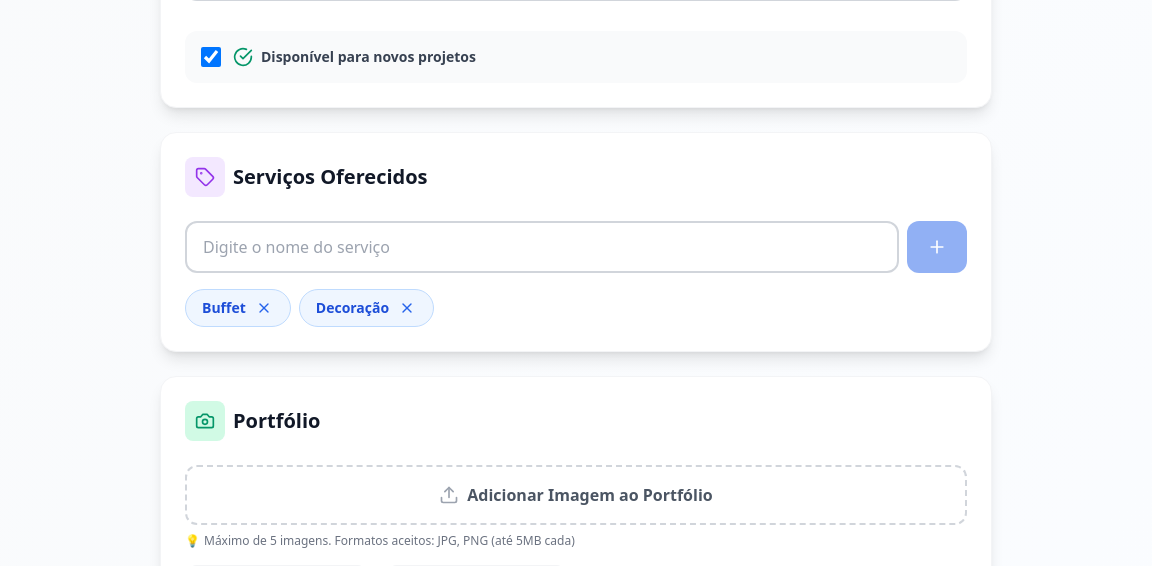
Scenario: SupplierProfileEdit › should add new service
This screenshot has width=1152, height=566.
(page scrolled)
Type "Fotografia" into the field with placeholder "Digite o nome do serviço" at (542, 247), box [185, 221, 899, 273]
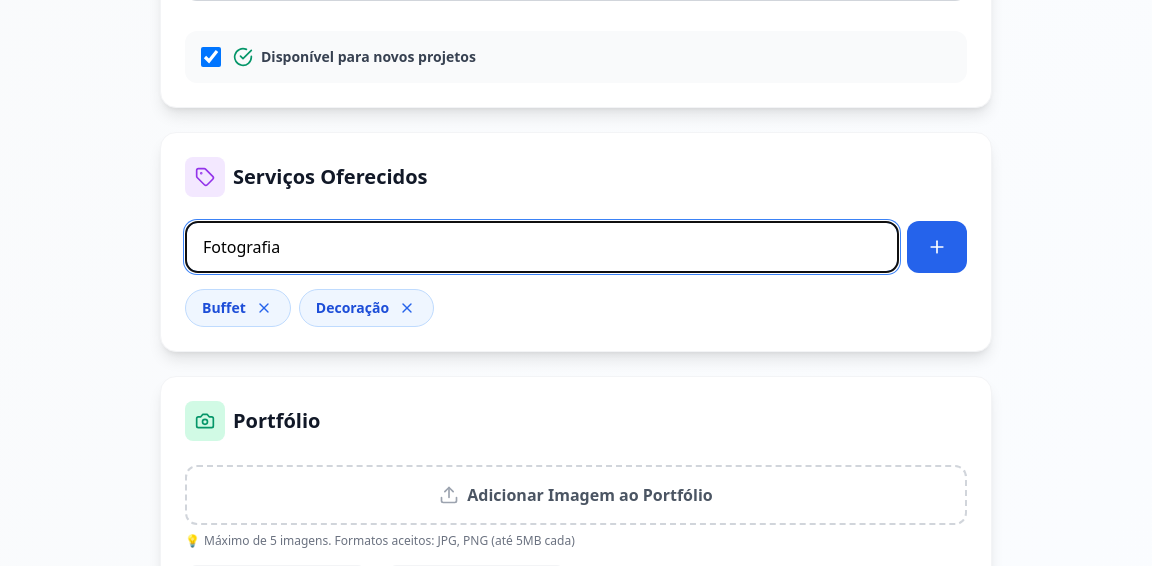
Click the 1st button at (937, 247), box [907, 221, 967, 273]
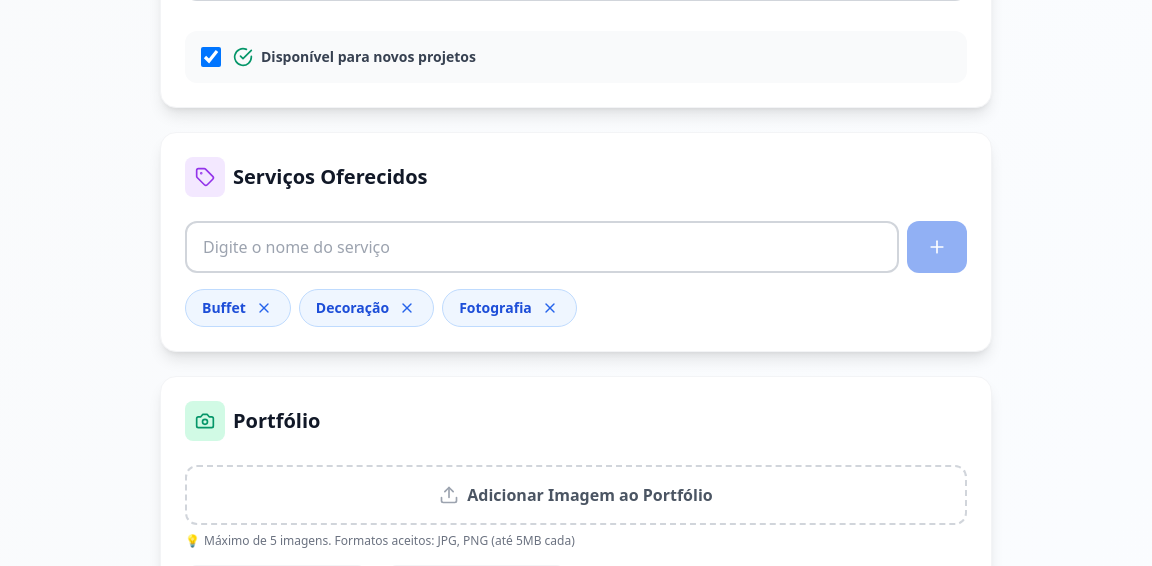
Result: the text "Fotografia" is shown at [459, 298, 532, 318]
